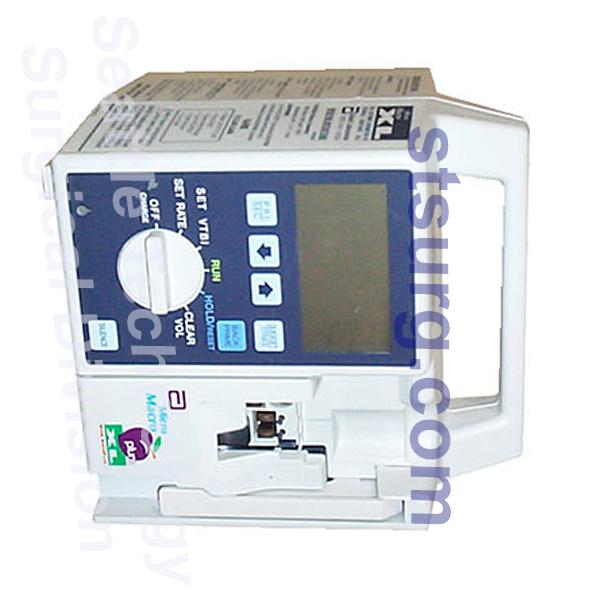plumxl1: (47, 48, 537, 555)
